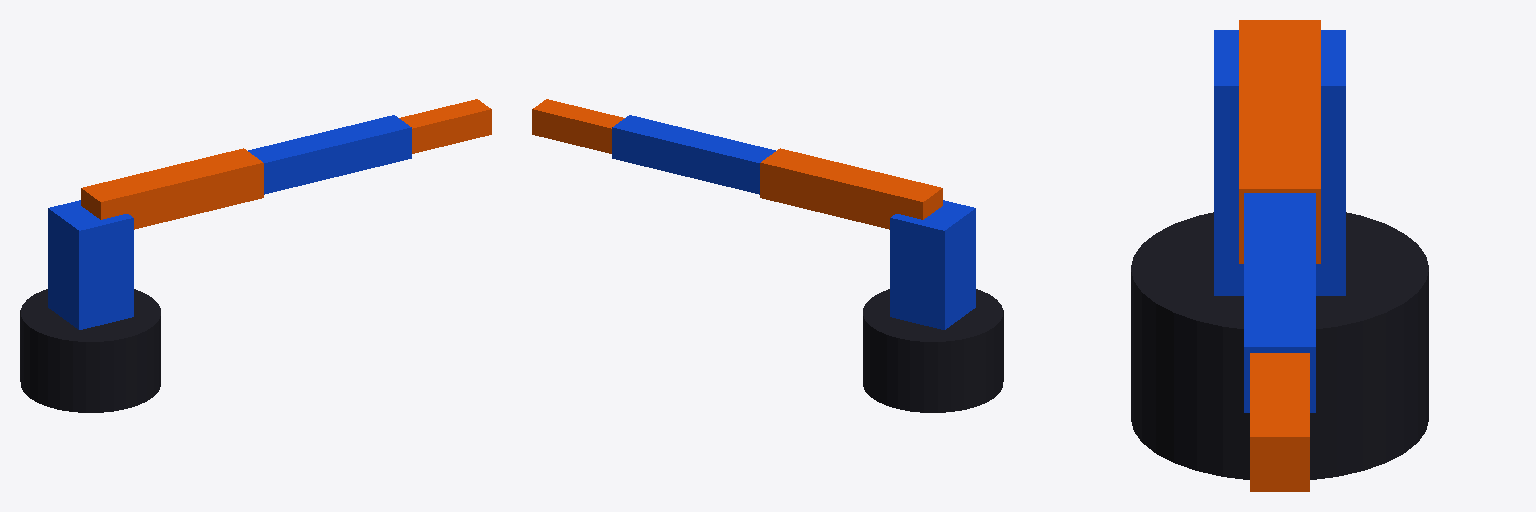
robot.urdf — ros_arm_gazebo:
<?xml version="1.0"?>
<robot name="ros_arm_gazebo">
  <material name="dark"><color rgba="0.15 0.15 0.18 1"/></material>
  <material name="blue"><color rgba="0.1 0.35 0.9 1"/></material>
  <material name="orange"><color rgba="0.95 0.4 0.05 1"/></material>

  <link name="world"/>

  <link name="base_sub_assembly">
    <inertial>
      <origin xyz="0 0 0.025"/>
      <mass value="0.25"/>
      <inertia ixx="0.00018" ixy="0" ixz="0"
               iyy="0.00018" iyz="0" izz="0.00025"/>
    </inertial>
    <visual>
      <origin xyz="0 0 0.025"/>
      <geometry><cylinder radius="0.045" length="0.05"/></geometry>
      <material name="dark"/>
    </visual>
    <collision>
      <origin xyz="0 0 0.025"/>
      <geometry><cylinder radius="0.045" length="0.05"/></geometry>
    </collision>
  </link>

  <joint name="world_base" type="fixed">
    <parent link="world"/>
    <child link="base_sub_assembly"/>
  </joint>

  <link name="shoulder_sub_assembly">
    <inertial>
      <origin xyz="0 0 0.035"/>
      <mass value="0.12"/>
      <inertia ixx="0.00008" ixy="0" ixz="0"
               iyy="0.00008" iyz="0" izz="0.00005"/>
    </inertial>
    <visual>
      <origin xyz="0 0 0.035"/>
      <geometry><box size="0.04 0.04 0.07"/></geometry>
      <material name="blue"/>
    </visual>
    <collision>
      <origin xyz="0 0 0.035"/>
      <geometry><box size="0.04 0.04 0.07"/></geometry>
    </collision>
  </link>

  <joint name="dof_base" type="revolute">
    <origin xyz="0 0 0.05"/>
    <parent link="base_sub_assembly"/>
    <child link="shoulder_sub_assembly"/>
    <axis xyz="0 0 1"/>
    <limit effort="2.0" velocity="1.0" lower="-0.523599" upper="0.523599"/>
    <dynamics damping="0.15" friction="0.05"/>
  </joint>

  <link name="arm_1_sub_asssembly">
    <inertial>
      <origin xyz="0.06 0 0"/>
      <mass value="0.10"/>
      <inertia ixx="0.00002" ixy="0" ixz="0"
               iyy="0.00014" iyz="0" izz="0.00014"/>
    </inertial>
    <visual>
      <origin xyz="0.06 0 0"/>
      <geometry><box size="0.12 0.025 0.025"/></geometry>
      <material name="orange"/>
    </visual>
    <collision>
      <origin xyz="0.06 0 0"/>
      <geometry><box size="0.12 0.025 0.025"/></geometry>
    </collision>
  </link>

  <joint name="dof_shoulder" type="revolute">
    <origin xyz="0 0 0.07"/>
    <parent link="shoulder_sub_assembly"/>
    <child link="arm_1_sub_asssembly"/>
    <axis xyz="0 1 0"/>
    <limit effort="2.0" velocity="1.0" lower="-0.523599" upper="0.523599"/>
    <dynamics damping="0.15" friction="0.05"/>
  </joint>

  <link name="arm_2_sub_asssembly_copy_1">
    <inertial>
      <origin xyz="0.055 0 0"/>
      <mass value="0.08"/>
      <inertia ixx="0.000015" ixy="0" ixz="0"
               iyy="0.00009" iyz="0" izz="0.00009"/>
    </inertial>
    <visual>
      <origin xyz="0.055 0 0"/>
      <geometry><box size="0.11 0.022 0.022"/></geometry>
      <material name="blue"/>
    </visual>
    <collision>
      <origin xyz="0.055 0 0"/>
      <geometry><box size="0.11 0.022 0.022"/></geometry>
    </collision>
  </link>

  <joint name="dof_elbow" type="revolute">
    <origin xyz="0.12 0 0"/>
    <parent link="arm_1_sub_asssembly"/>
    <child link="arm_2_sub_asssembly_copy_1"/>
    <axis xyz="0 1 0"/>
    <limit effort="1.5" velocity="1.0" lower="-0.523599" upper="0.523599"/>
    <dynamics damping="0.12" friction="0.04"/>
  </joint>

  <link name="end_arm_sub_assembly">
    <inertial>
      <origin xyz="0.03 0 0"/>
      <mass value="0.04"/>
      <inertia ixx="0.000008" ixy="0" ixz="0"
               iyy="0.00002" iyz="0" izz="0.00002"/>
    </inertial>
    <visual>
      <origin xyz="0.03 0 0"/>
      <geometry><box size="0.06 0.018 0.018"/></geometry>
      <material name="orange"/>
    </visual>
    <collision>
      <origin xyz="0.03 0 0"/>
      <geometry><box size="0.06 0.018 0.018"/></geometry>
    </collision>
  </link>

  <joint name="dof_wrist_pitch" type="revolute">
    <origin xyz="0.11 0 0"/>
    <parent link="arm_2_sub_asssembly_copy_1"/>
    <child link="end_arm_sub_assembly"/>
    <axis xyz="0 1 0"/>
    <limit effort="1.0" velocity="1.0" lower="-0.523599" upper="0.523599"/>
    <dynamics damping="0.10" friction="0.03"/>
  </joint>

  <ros2_control name="GazeboSystem" type="system">
    <hardware>
      <plugin>gazebo_ros2_control/GazeboSystem</plugin>
    </hardware>
    <joint name="dof_base">
      <command_interface name="position">
        <param name="min">-0.523599</param>
        <param name="max">0.523599</param>
      </command_interface>
      <state_interface name="position"/>
      <state_interface name="velocity"/>
    </joint>
    <joint name="dof_shoulder">
      <command_interface name="position">
        <param name="min">-0.523599</param>
        <param name="max">0.523599</param>
      </command_interface>
      <state_interface name="position"/>
      <state_interface name="velocity"/>
    </joint>
    <joint name="dof_elbow">
      <command_interface name="position">
        <param name="min">-0.523599</param>
        <param name="max">0.523599</param>
      </command_interface>
      <state_interface name="position"/>
      <state_interface name="velocity"/>
    </joint>
    <joint name="dof_wrist_pitch">
      <command_interface name="position">
        <param name="min">-0.523599</param>
        <param name="max">0.523599</param>
      </command_interface>
      <state_interface name="position"/>
      <state_interface name="velocity"/>
    </joint>
  </ros2_control>

  <gazebo>
    <plugin filename="libgazebo_ros2_control.so"
            name="gazebo_ros2_control">
      <parameters>__CONTROLLER_CONFIG__</parameters>
    </plugin>
  </gazebo>
</robot>

--- Render facts (derived) ---
3 views of the same robot in one strip: view 1: azimuth 30°, elevation 25°; view 2: azimuth 150°, elevation 25°; view 3: azimuth 270°, elevation 25° (orthographic).
Robot: ros_arm_gazebo — 6 links, 5 joints (4 revolute, 1 fixed); root link world; default pose: every joint at zero.
Visible links, largest first — view 1: base_sub_assembly, shoulder_sub_assembly, arm_1_sub_asssembly, arm_2_sub_asssembly_copy_1, end_arm_sub_assembly; view 2: base_sub_assembly, shoulder_sub_assembly, arm_1_sub_asssembly, arm_2_sub_asssembly_copy_1, end_arm_sub_assembly; view 3: base_sub_assembly, arm_1_sub_asssembly, shoulder_sub_assembly, arm_2_sub_asssembly_copy_1, end_arm_sub_assembly.
Link boxes in pixels (bbox=[...]): base_sub_assembly: bbox=[20, 289, 160, 412]; shoulder_sub_assembly: bbox=[48, 200, 133, 329]; arm_1_sub_asssembly: bbox=[81, 148, 263, 229]; arm_2_sub_asssembly_copy_1: bbox=[248, 115, 411, 194]; end_arm_sub_assembly: bbox=[399, 99, 491, 153]; base_sub_assembly: bbox=[863, 289, 1003, 412]; shoulder_sub_assembly: bbox=[890, 200, 975, 329]; arm_1_sub_asssembly: bbox=[760, 148, 942, 229]; arm_2_sub_asssembly_copy_1: bbox=[612, 115, 775, 194]; end_arm_sub_assembly: bbox=[532, 99, 624, 153]; base_sub_assembly: bbox=[1131, 212, 1428, 479]; arm_1_sub_asssembly: bbox=[1239, 20, 1320, 263]; shoulder_sub_assembly: bbox=[1214, 30, 1345, 295]; arm_2_sub_asssembly_copy_1: bbox=[1244, 193, 1315, 412]; end_arm_sub_assembly: bbox=[1250, 353, 1309, 491].
Bounding box of the posed robot: 0.335 × 0.09 × 0.1325 m (x, y, z).
Geometry: primitives only (box / cylinder / sphere), no mesh files.
